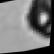correct: (20, 0, 54, 44)
